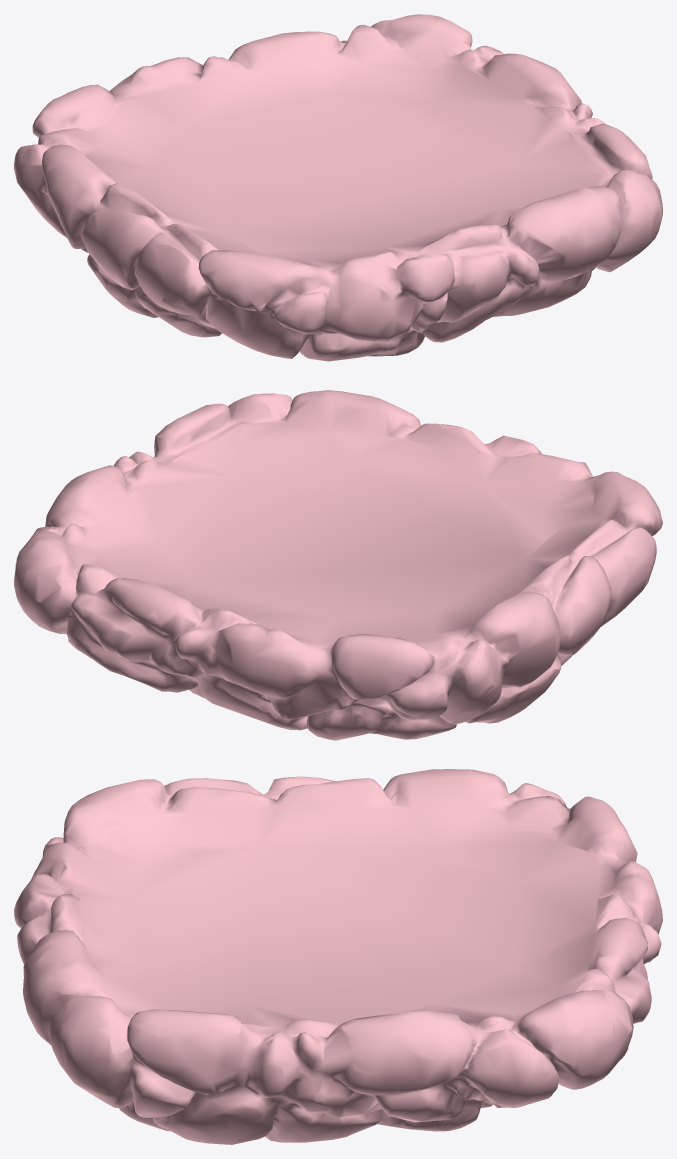
File: island_6_LOD3.fbx
3 views of the same model, one above another, from view 1: azimuth 30°, elevation 25°; view 2: azimuth 150°, elevation 25°; view 3: azimuth 270°, elevation 25° (orthographic). The views are drawn at different scales.
Parts seen in each view (by area): view 1: island_6_LOD3; view 2: island_6_LOD3; view 3: island_6_LOD3.
Boxes of the visible parts, bbox=[...] form: island_6_LOD3: bbox=[14, 14, 662, 361]; island_6_LOD3: bbox=[14, 390, 662, 740]; island_6_LOD3: bbox=[14, 769, 662, 1144].
Size of the model in its own units: 2636 by 753 by 2585.
